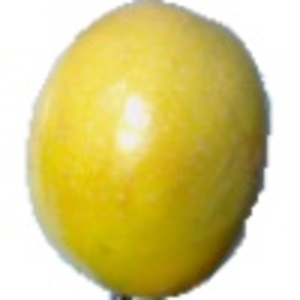maracujá: (18, 1, 274, 300)
